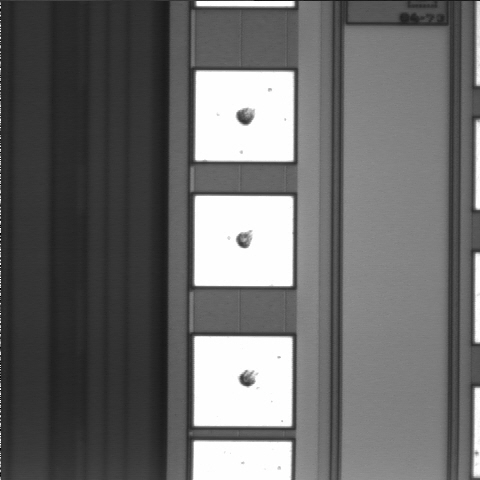pad: (195, 71, 294, 161), (194, 196, 293, 286), (194, 336, 292, 426)
